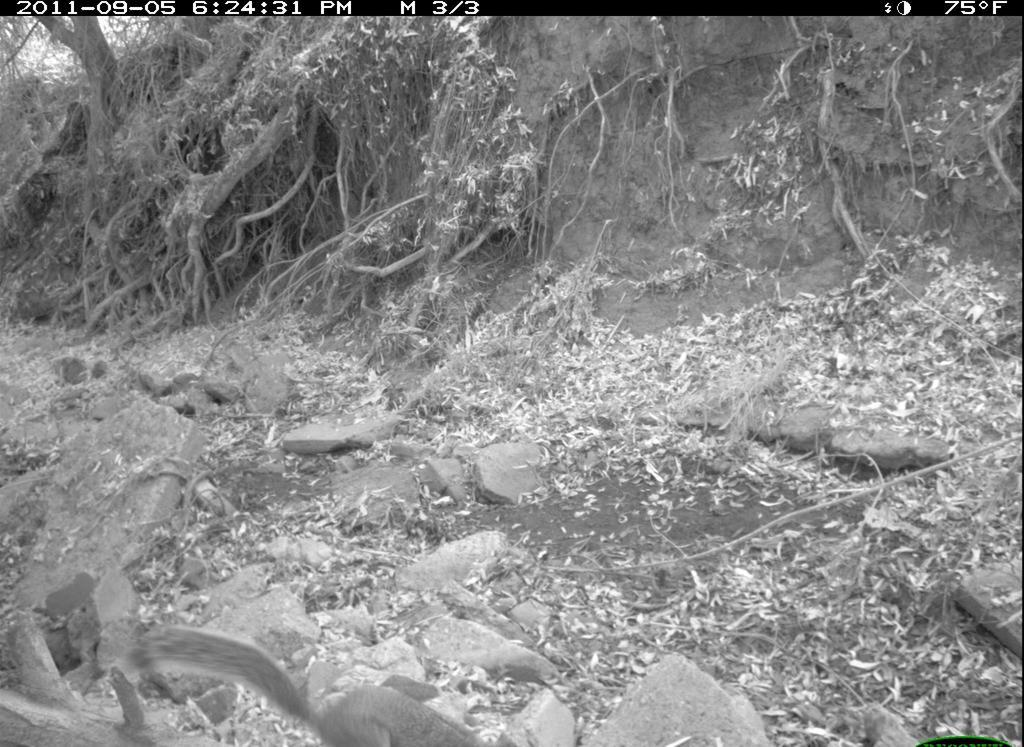squirrel: (109, 597, 504, 747)
